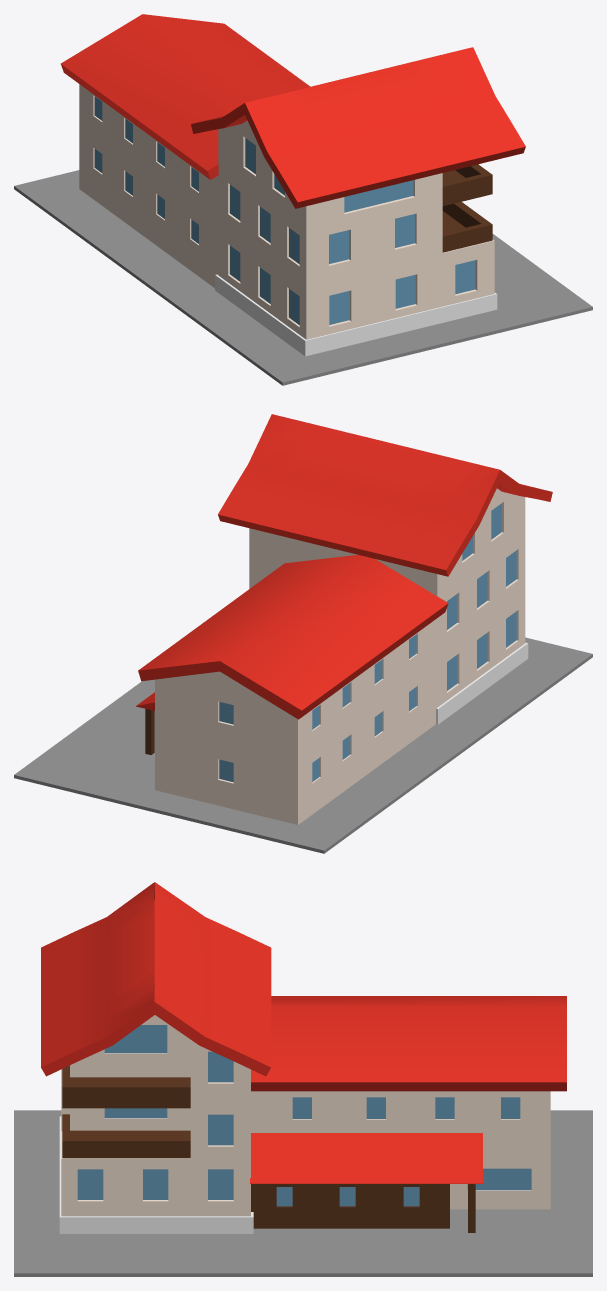
Rendered from Dom V.FBX.
3 renders of one model, top to bottom at view 1: azimuth 30°, elevation 25°; view 2: azimuth 150°, elevation 25°; view 3: azimuth 270°, elevation 25°, orthographic. The views are drawn at different scales.
Visible parts, largest first — view 1: Object, Box002, Plane001, Object002, Box030, Box006, Box007, Box005, Box004, Box003; view 2: Box030, Object, Object002, Plane001, Box002, Box006, Box003, Box007; view 3: Plane001, Object, Object002, Box002, Box030, Box009, Box008, Box006, Box004, Box005, Box007, Box003 (+1 smaller).
Part boxes in pixels (<box>): Object: <box>191,47,525,208</box>; Box002: <box>218,120,494,339</box>; Plane001: <box>14,170,592,385</box>; Object002: <box>61,14,310,179</box>; Box030: <box>79,84,218,287</box>; Box006: <box>230,138,475,324</box>; Box007: <box>215,274,497,356</box>; Box005: <box>442,202,492,252</box>; Box004: <box>442,164,492,206</box>; Box003: <box>94,96,198,243</box>; Box030: <box>155,618,437,824</box>; Object: <box>218,414,552,576</box>; Object002: <box>138,555,448,719</box>; Plane001: <box>14,637,592,853</box>; Box002: <box>249,488,525,707</box>; Box006: <box>447,503,516,690</box>; Box003: <box>219,634,416,782</box>; Box007: <box>436,642,528,724</box>; Plane001: <box>14,1110,592,1276</box>; Object: <box>41,882,271,1076</box>; Object002: <box>251,996,566,1091</box>; Box002: <box>61,1015,250,1216</box>; Box030: <box>251,1091,550,1209</box>; Box009: <box>250,1133,482,1183</box>; Box008: <box>251,1184,449,1228</box>; Box006: <box>77,1025,233,1199</box>; Box004: <box>62,1065,190,1108</box>; Box005: <box>62,1114,190,1158</box>; Box007: <box>59,1116,253,1233</box>; Box003: <box>292,1097,531,1190</box>.
Bounding box in the file's own units: 2 × 1.41 × 3.
